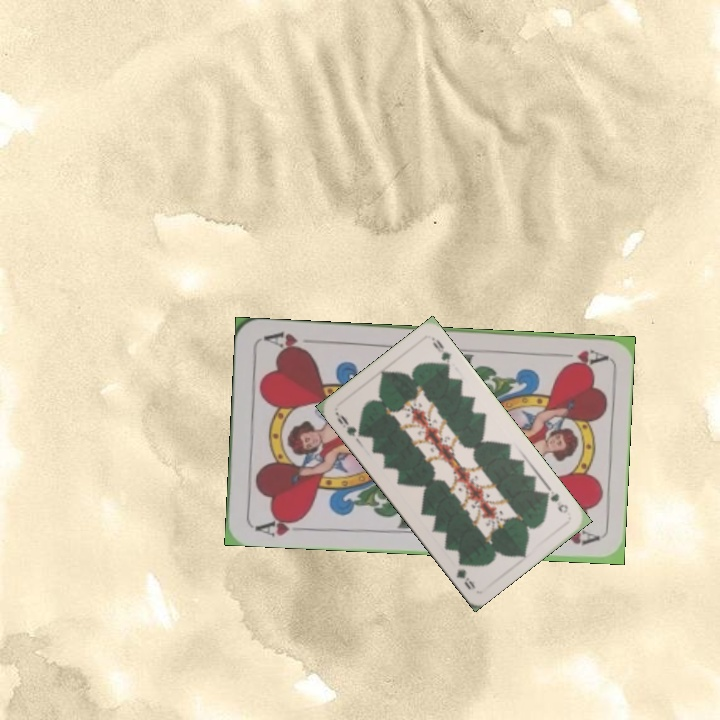G9: (332, 409, 366, 440), (540, 487, 571, 516)
HA: (251, 512, 309, 539), (549, 345, 608, 368)
